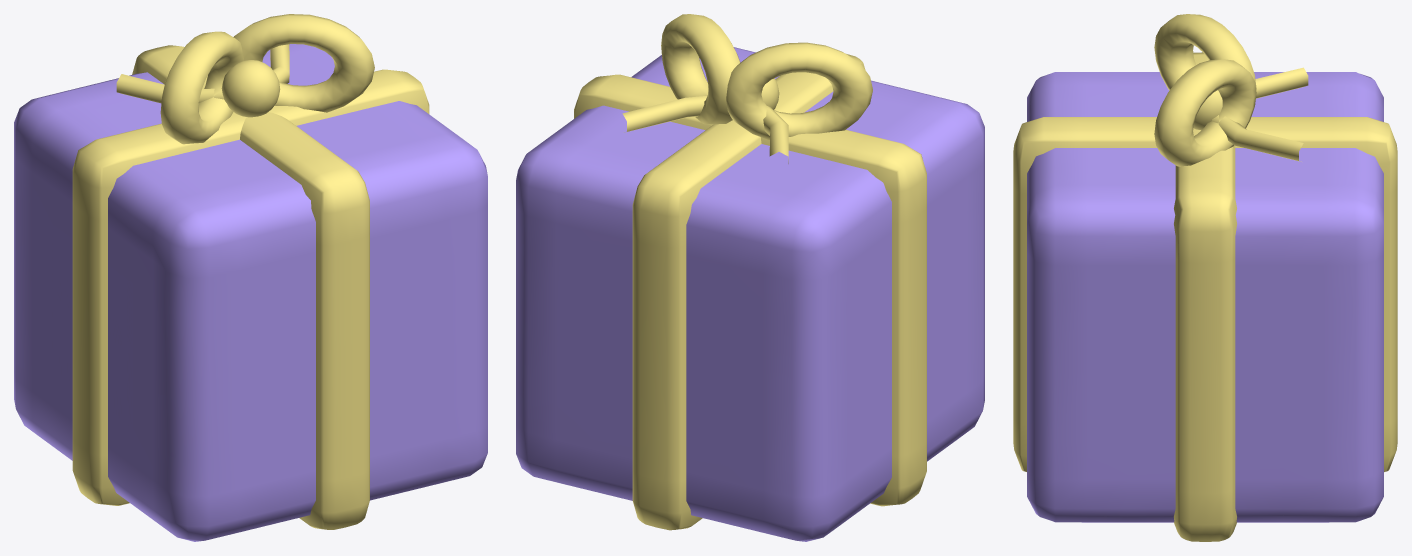
The model's file is GiftBox.glb.
3 renders of one model, left to right at view 1: azimuth 30°, elevation 25°; view 2: azimuth 150°, elevation 25°; view 3: azimuth 270°, elevation 25°, orthographic. The views are drawn at different scales.
Visible parts, largest first — view 1: Box, Ribbon; view 2: Box, Ribbon; view 3: Box, Ribbon.
Part boxes in pixels (x1,y1,x2,y2): Box: [14, 44, 487, 541]; Ribbon: [72, 14, 429, 529]; Box: [516, 47, 984, 541]; Ribbon: [574, 14, 926, 530]; Box: [1027, 72, 1383, 522]; Ribbon: [1013, 14, 1397, 541].
Bounding box in the file's own units: 4.3 × 5.28 × 4.3.
